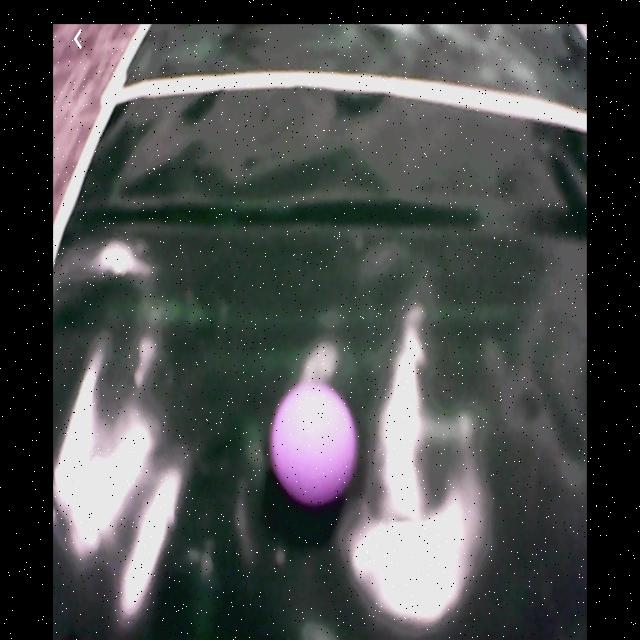ball: (271, 386, 359, 506)
